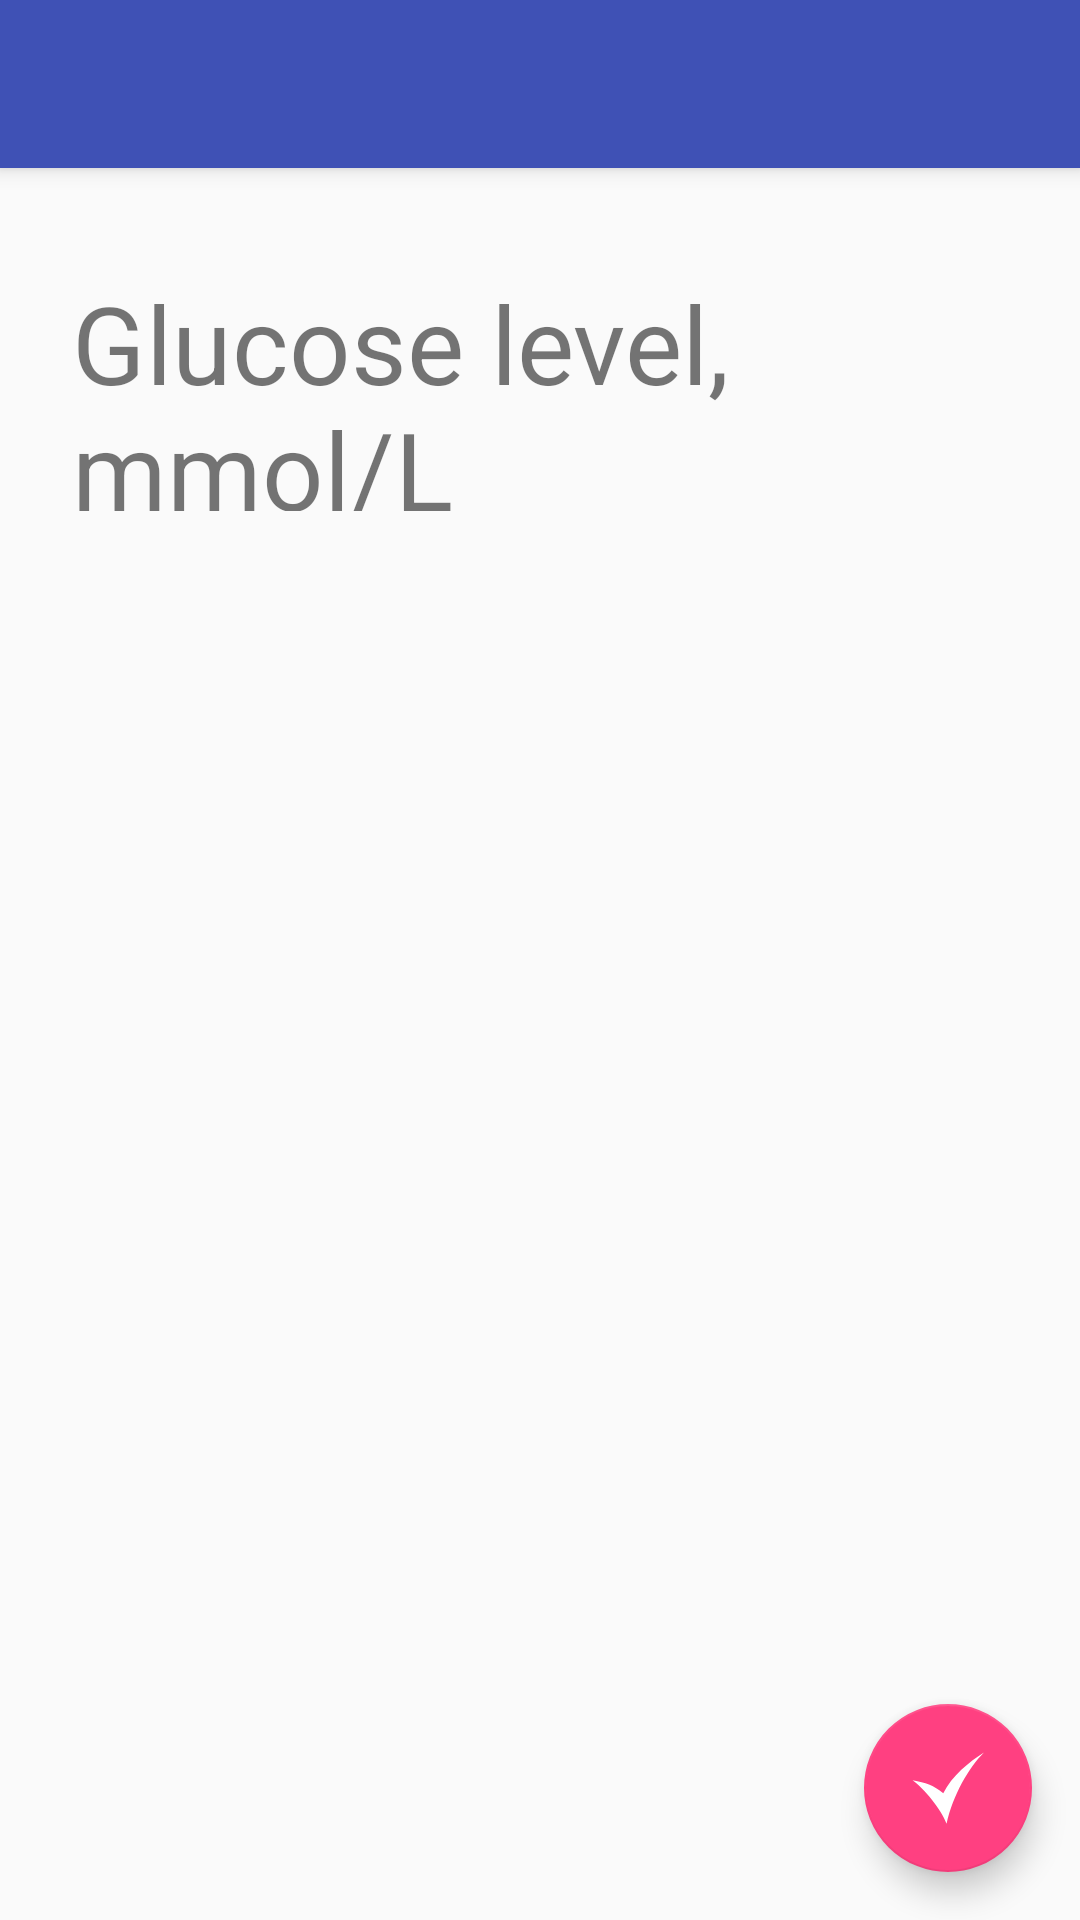

Point at icon controls on the screen. Image size 1080px x 1920px, points as (x,y).
check: (948,1788)
